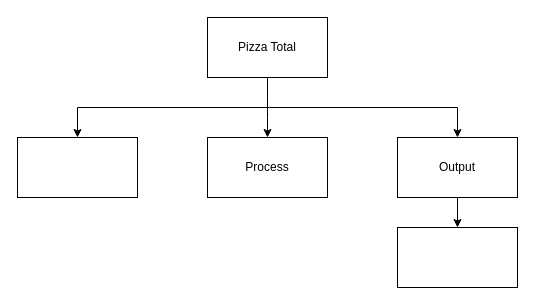
The diagram is 535 pixels wide and 305 high, and some of its shapes have lost their labels. The box of each missing label's shape, as (x1, y1, x2, y2) in pixels:
Input: (16, 136, 138, 198)
print "RGB value (red, green, blue): (396, 226, 518, 288)
